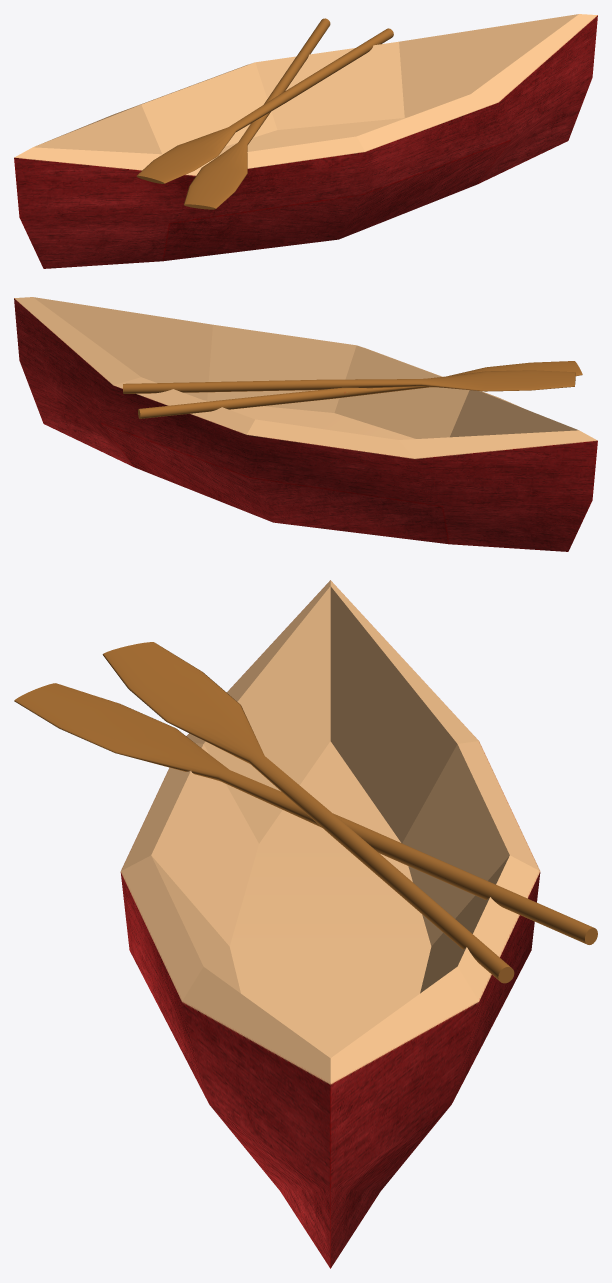
File: Canoe.fbx
3 views of the same model, one above another, from view 1: azimuth 30°, elevation 25°; view 2: azimuth 150°, elevation 25°; view 3: azimuth 270°, elevation 25° (orthographic). The views are drawn at different scales.
Visible parts, largest first — view 1: Canoe; view 2: Canoe; view 3: Canoe.
Boxes of the visible parts, x1=… form: Canoe: x1=14, y1=14, x2=597, y2=268; Canoe: x1=14, y1=297, x2=597, y2=551; Canoe: x1=14, y1=580, x2=597, y2=1268.
Bounding box in the file's own units: 17.33 × 3.83 × 8.48.
